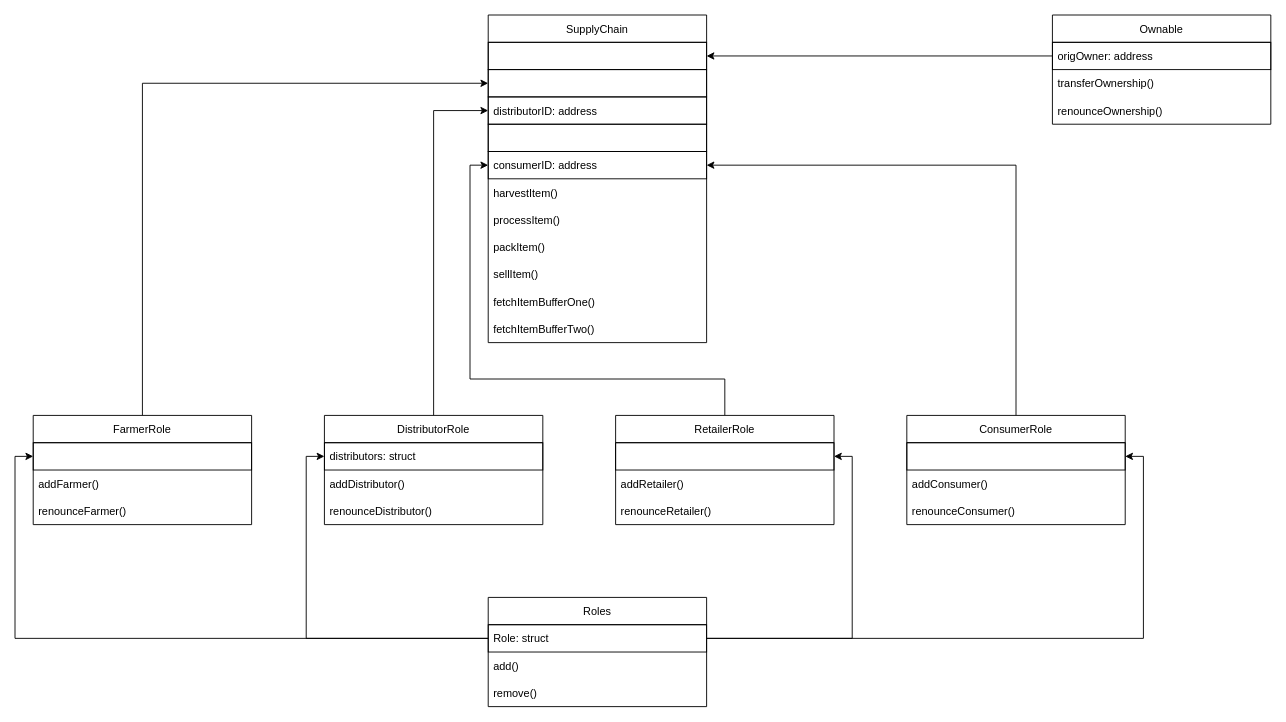
Image size: 1286x722. Some labels were removed from this diagram. Each missing label, with the centre of its shape:
"consumers: struct" goes at [1015,456].
"farmers: struct" goes at [142,456].
"originFarmerID: address" goes at [597,83].
"owner: address" goes at [597,55].
"retailerID: address" goes at [597,137].
"retailers: struct" goes at [724,456].
